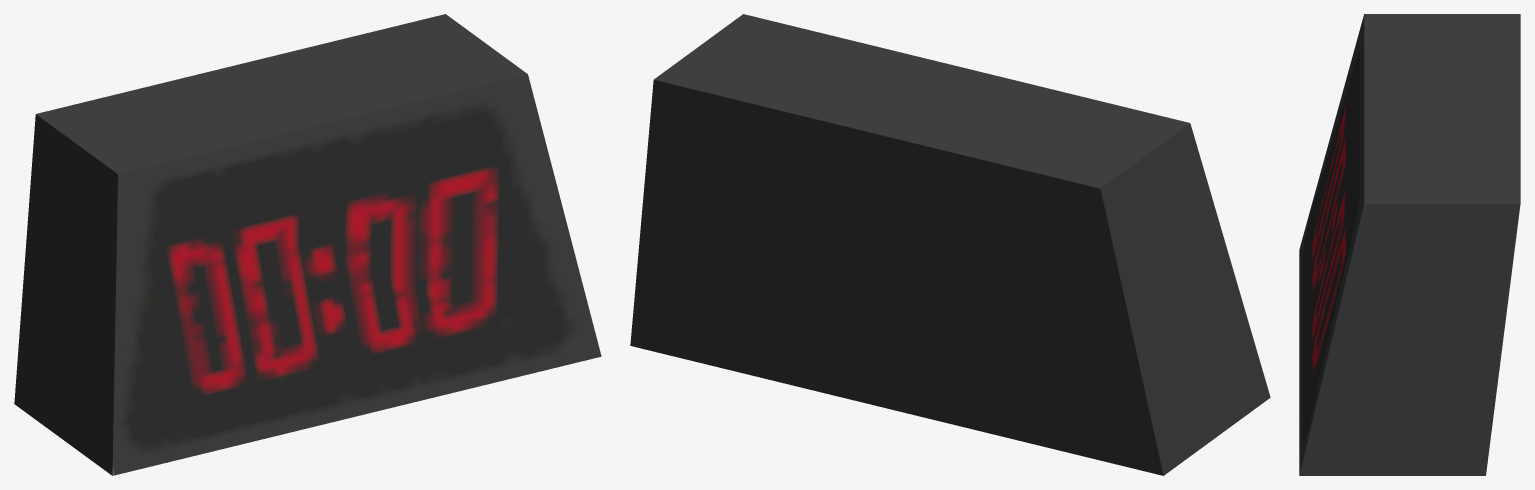
Rendered from alarm clock.fbx.
The picture shows the model from 3 angles, left to right: view 1: azimuth 30°, elevation 25°; view 2: azimuth 150°, elevation 25°; view 3: azimuth 270°, elevation 25°; orthographic projection. The views are drawn at different scales.
Visible parts, largest first — view 1: alarm clock; view 2: alarm clock; view 3: alarm clock.
Part boxes in pixels (x1=…): alarm clock: x1=14, y1=14, x2=601, y2=475; alarm clock: x1=630, y1=14, x2=1270, y2=475; alarm clock: x1=1299, y1=14, x2=1520, y2=475.
Size of the model in its own units: 85.12 by 44.42 by 35.08.
